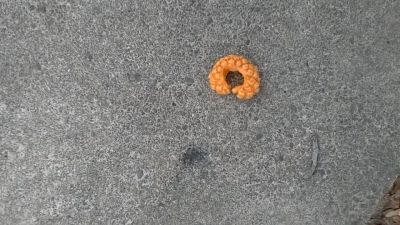eggs: (207, 54, 263, 99)
